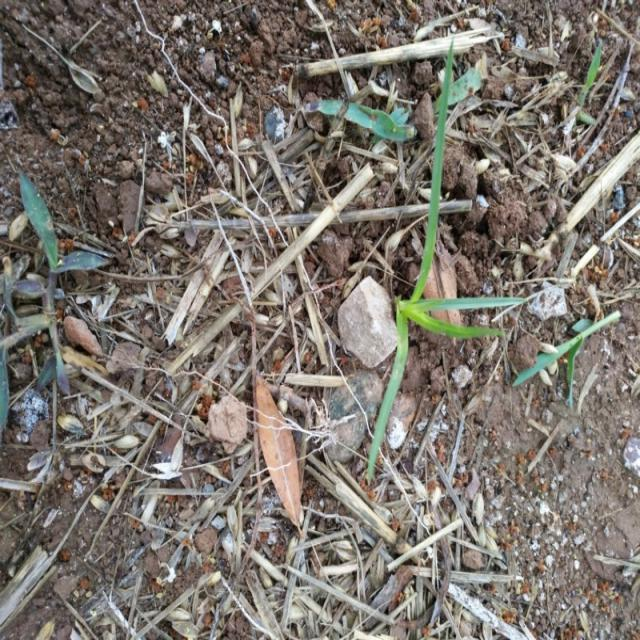sedge: (386, 68, 567, 474)
